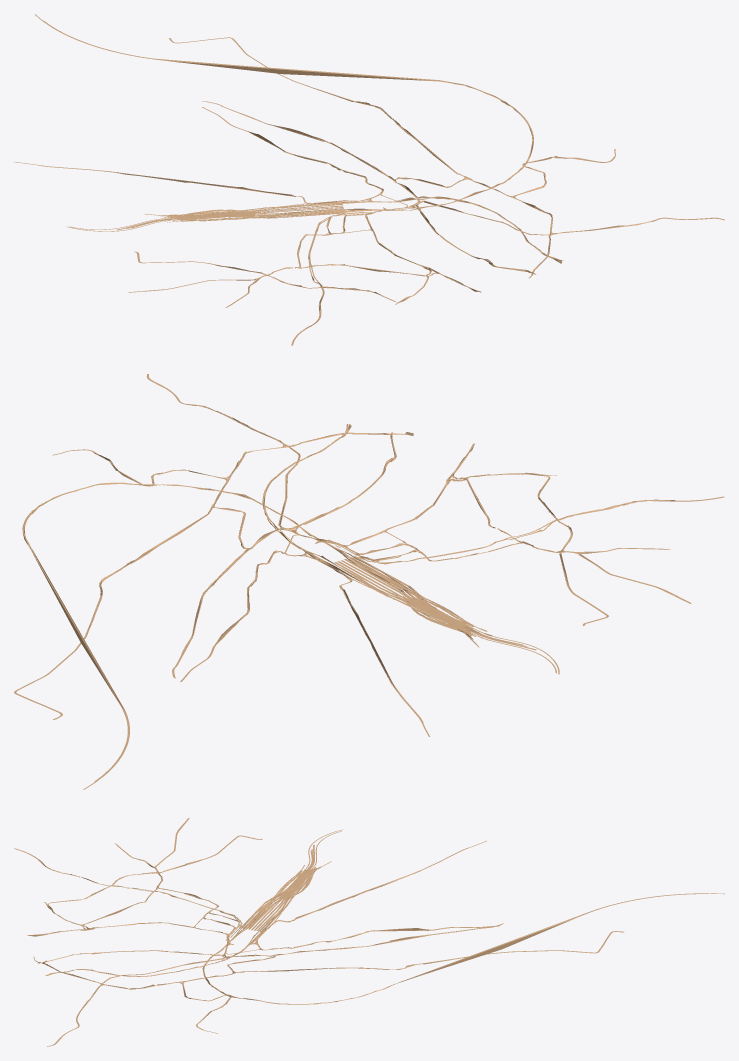
Rendered from rail.glb.
The picture shows the model from 3 angles, top to bottom: view 1: azimuth 30°, elevation 25°; view 2: azimuth 150°, elevation 25°; view 3: azimuth 270°, elevation 25°; orthographic projection. The views are drawn at different scales.
Visible parts, largest first — view 1: rail; view 2: rail; view 3: rail.
Part boxes in pixels (x1,y1,x2,y2): rail: (14,14,724,345); rail: (14,374,724,789); rail: (14,818,724,1046).
Bounding box in the file's own units: 3143 × 163 × 4077.
